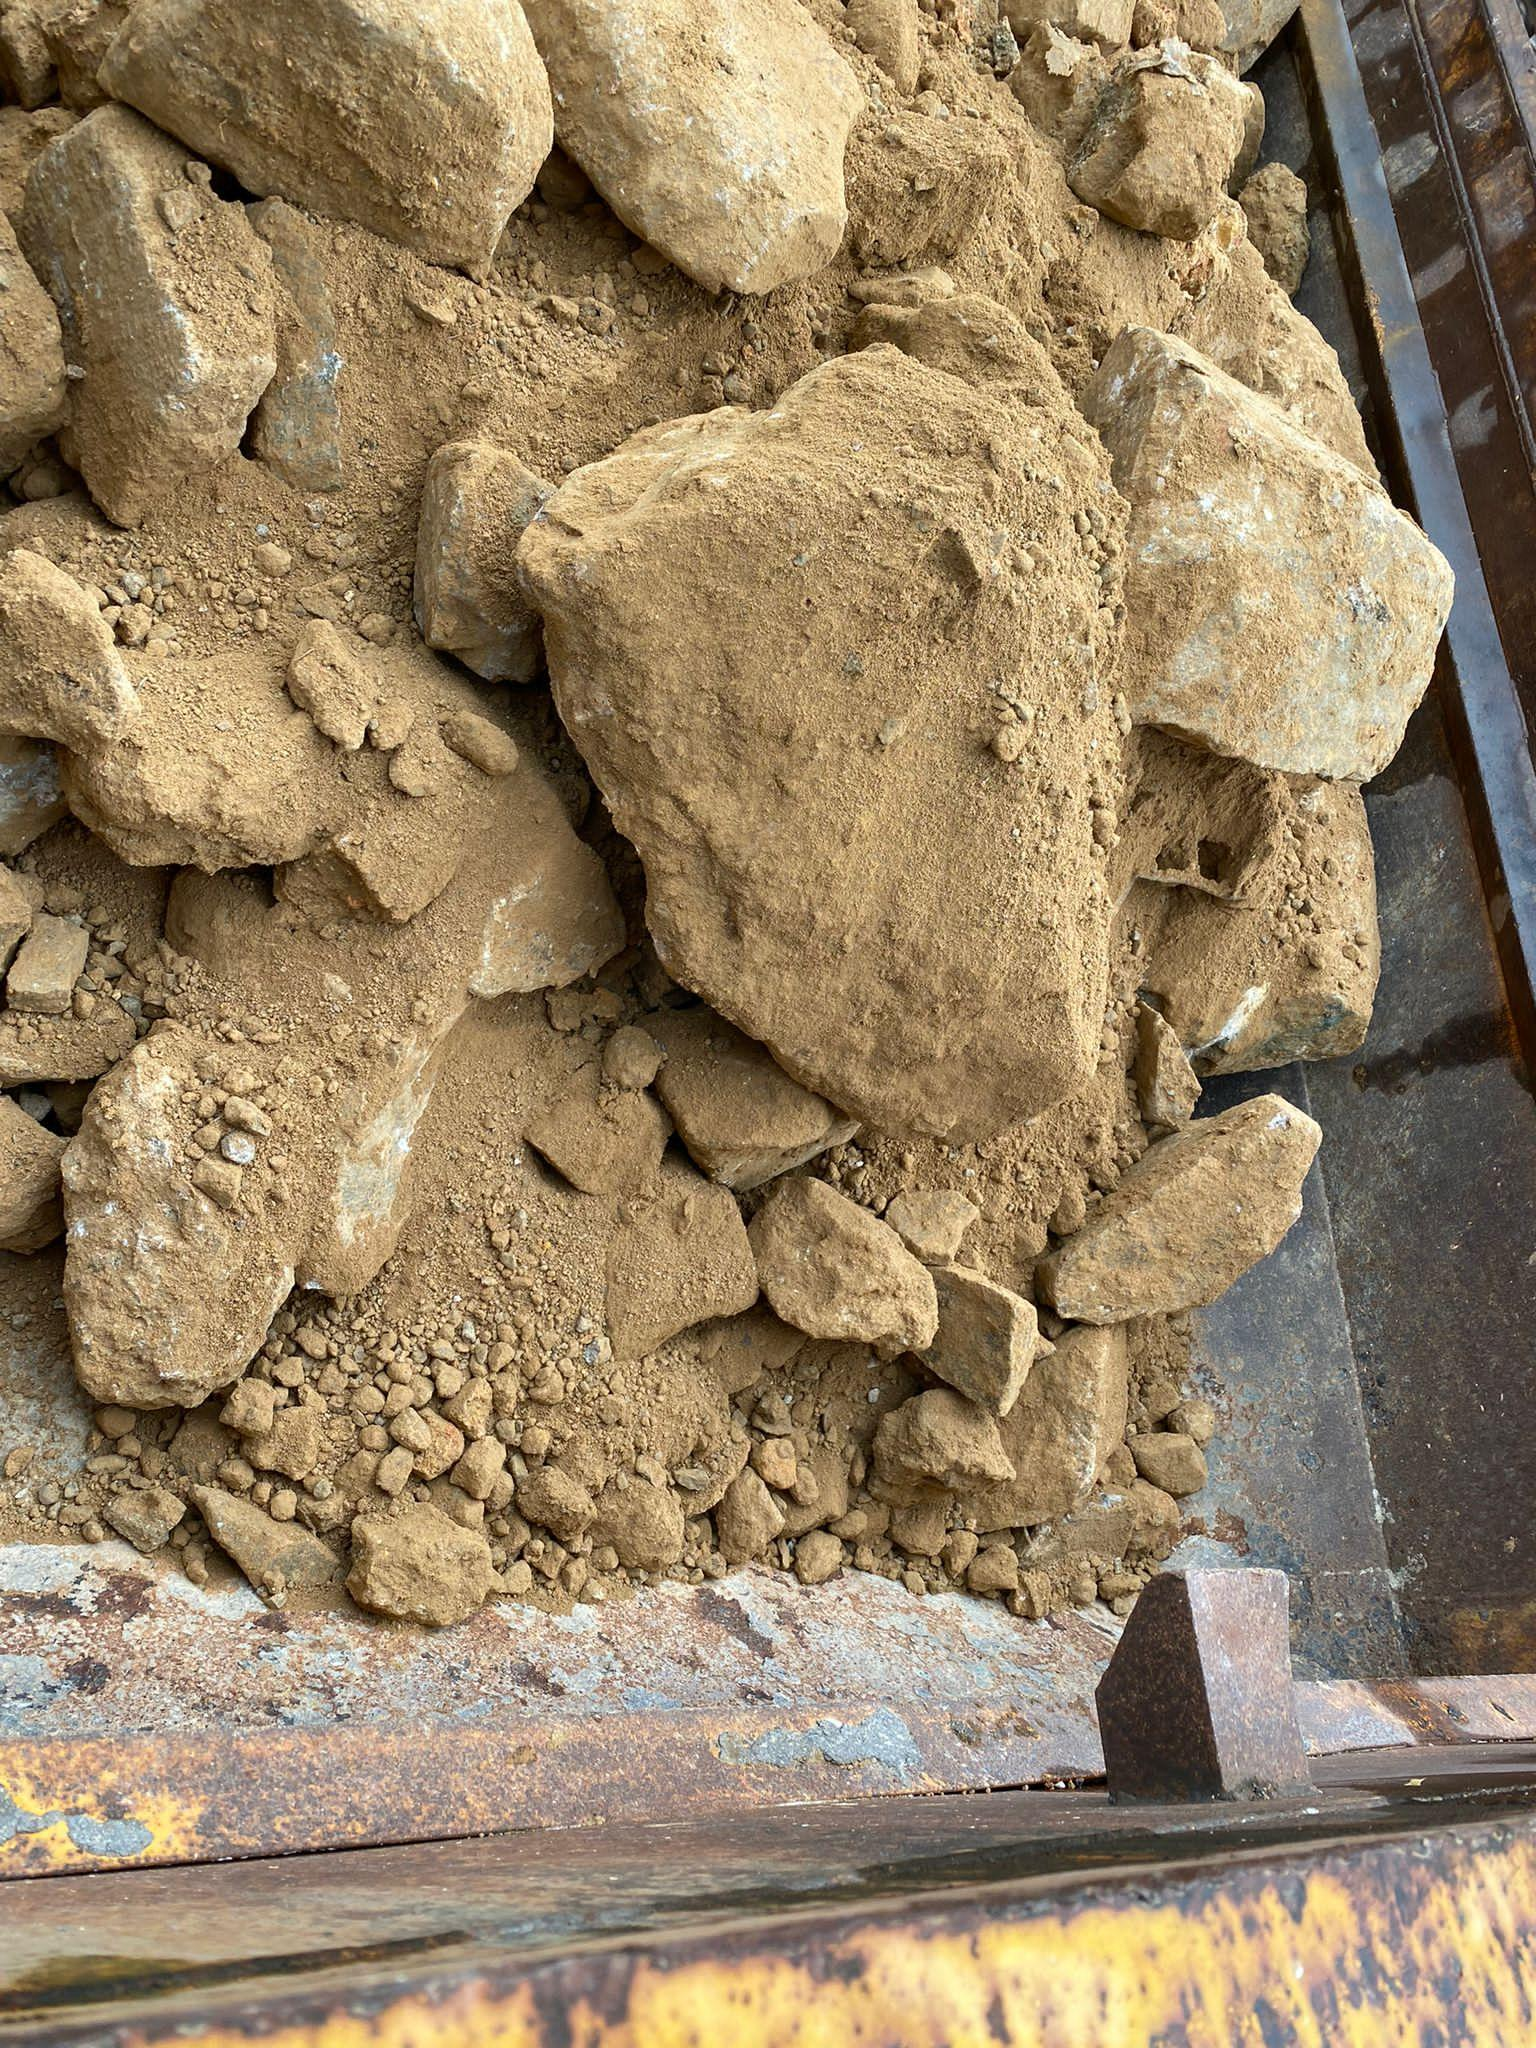dirt: (1, 0, 1457, 1640)
stone: (509, 316, 1142, 1150), (1077, 321, 1457, 782), (94, 0, 557, 280), (522, 0, 867, 297), (1093, 1564, 1317, 1805)
